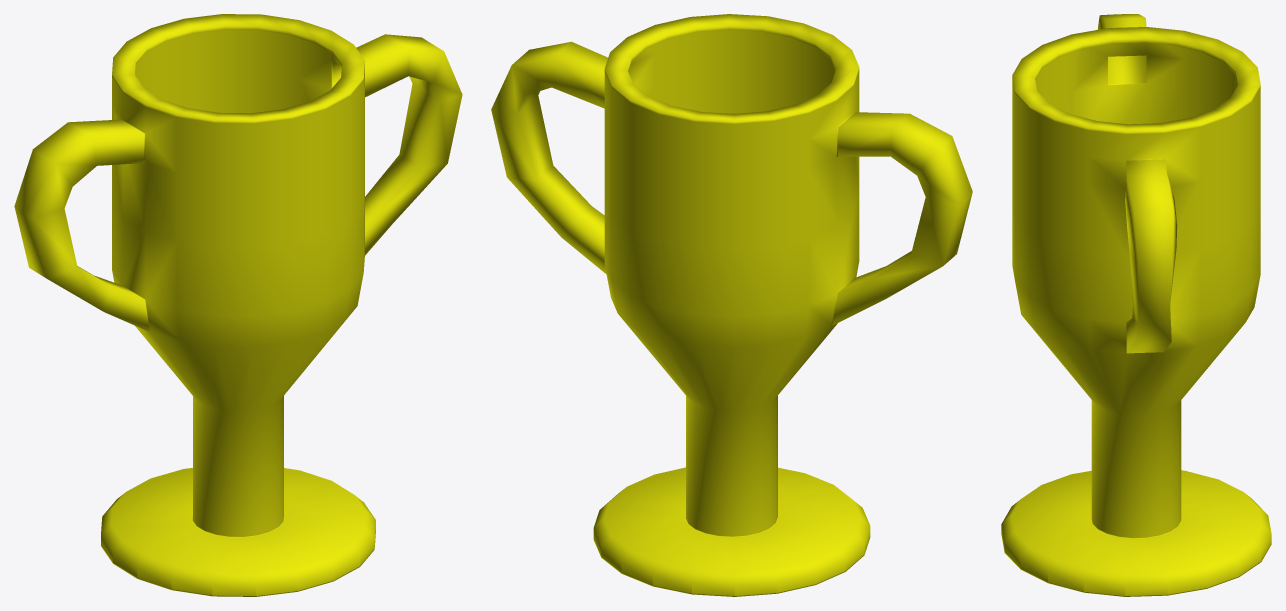
Rendered from Gold trophy_1 - Proxy.fbx.
The picture shows the model from 3 angles, left to right: view 1: azimuth 30°, elevation 25°; view 2: azimuth 150°, elevation 25°; view 3: azimuth 270°, elevation 25°; orthographic projection. The views are drawn at different scales.
Visible parts, largest first — view 1: Gold trophy_03; view 2: Gold trophy_03; view 3: Gold trophy_03.
Boxes of the visible parts, x1,y1,x2,y2 form: Gold trophy_03: (14,14,462,596); Gold trophy_03: (491,14,972,596); Gold trophy_03: (1001,14,1271,596).
Bounding box in the file's own units: 50.18 × 50.18 × 26.66.
